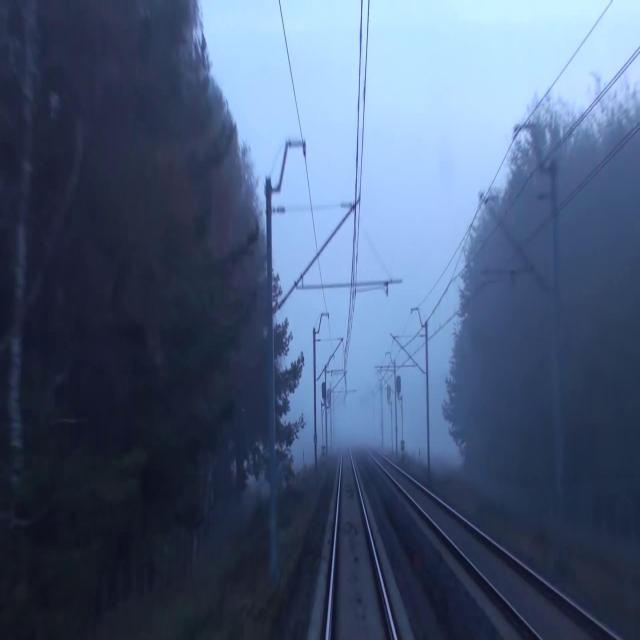rail-track: (386, 464, 610, 639), (330, 444, 392, 639)
